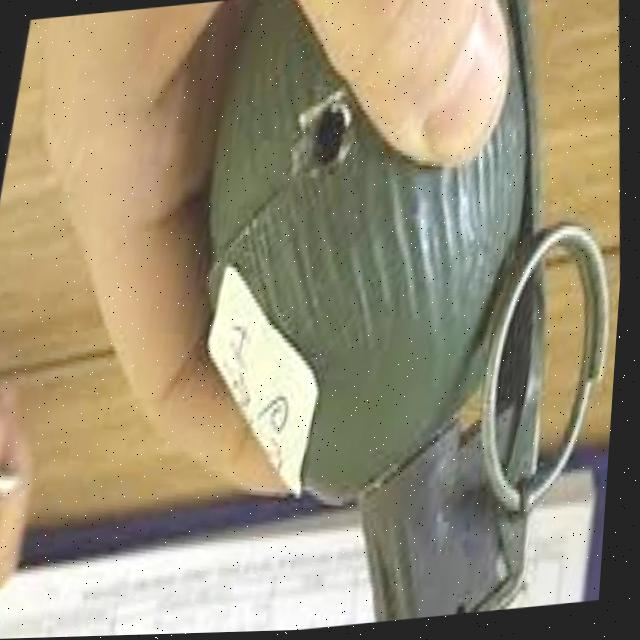grenade: (84, 0, 640, 637)
